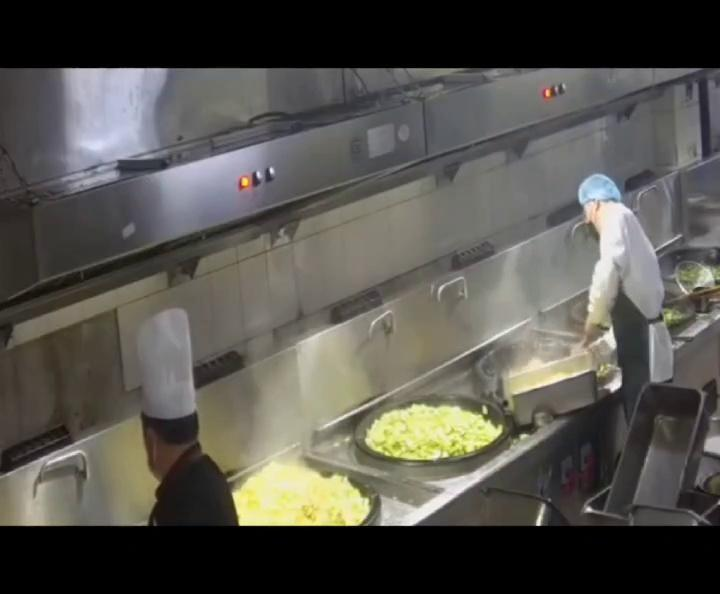gloves: (576, 171, 623, 208)
